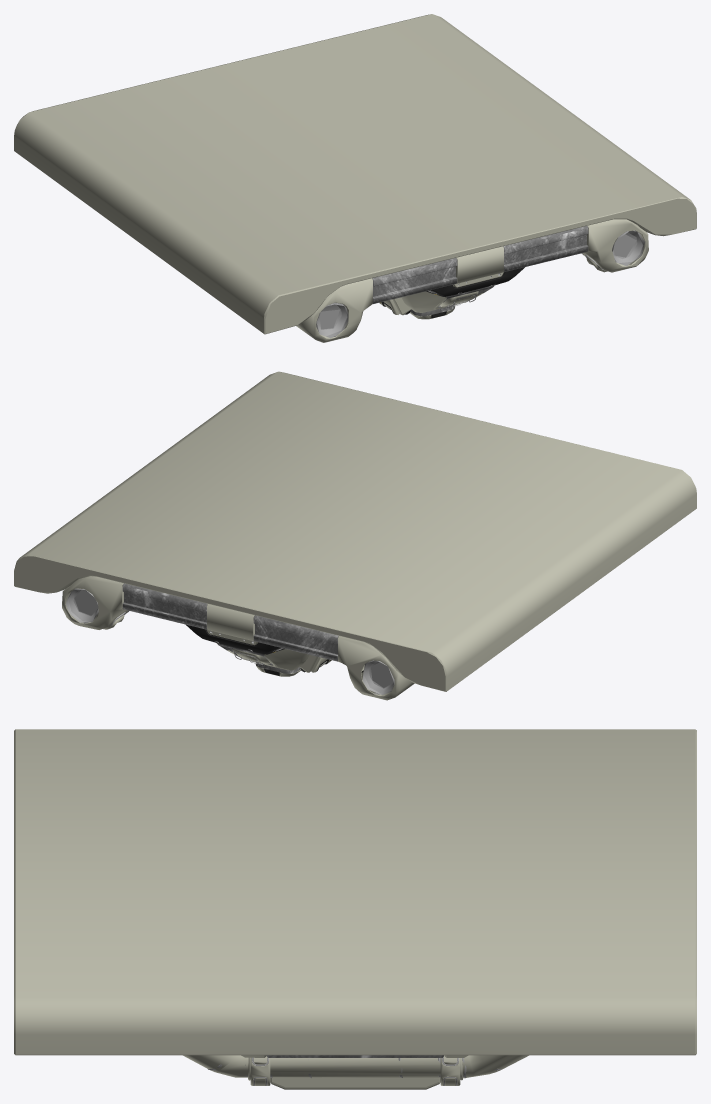
Rendered from roof_entrance.glb.
3 views of the same model, one above another, from view 1: azimuth 30°, elevation 25°; view 2: azimuth 150°, elevation 25°; view 3: azimuth 270°, elevation 25° (orthographic). The views are drawn at different scales.
Visible parts, largest first — view 1: Roof_Square; view 2: Roof_Square; view 3: Roof_Square.
Part boxes in pixels (x1,y1,x2,y2): Roof_Square: (14,14,696,342); Roof_Square: (14,371,696,700); Roof_Square: (14,729,696,1089).
Bounding box in the file's own units: 4.39 × 1.06 × 4.4.
10 materials, 1 textured.
